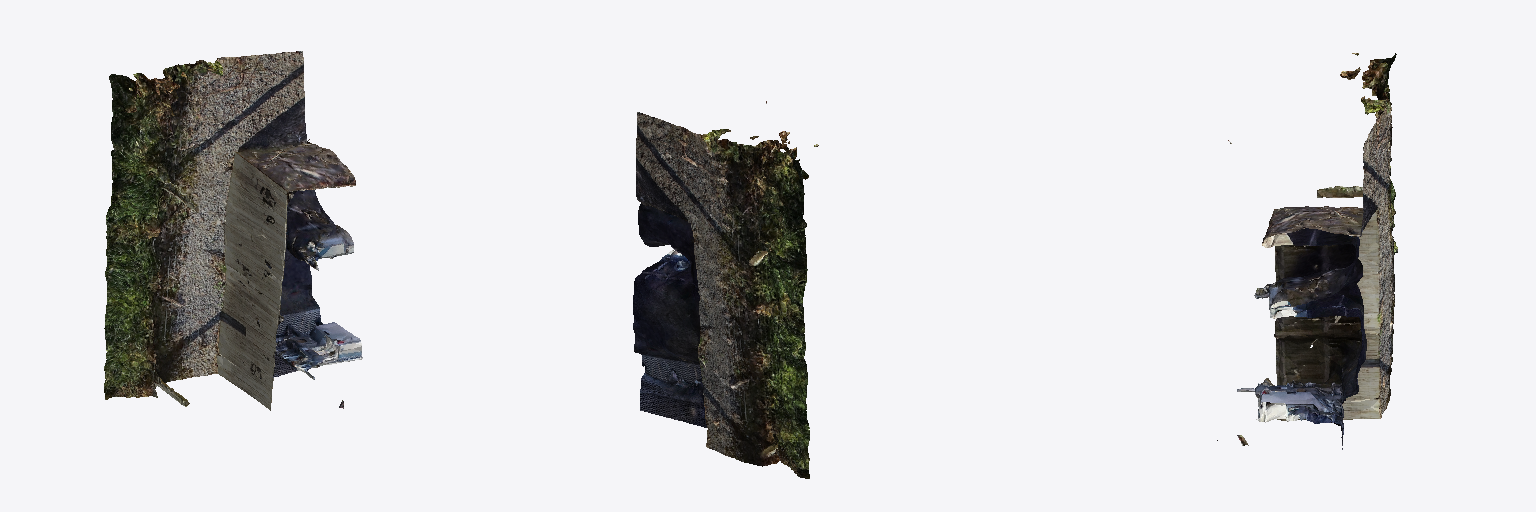
The picture shows the model from 3 angles: view 1: azimuth 30°, elevation 25°; view 2: azimuth 150°, elevation 25°; view 3: azimuth 270°, elevation 25°; orthographic projection.
Bounding box in the file's own units: 3.98 × 6.3 × 4.22.
Materials: 2 (1 with a texture image).